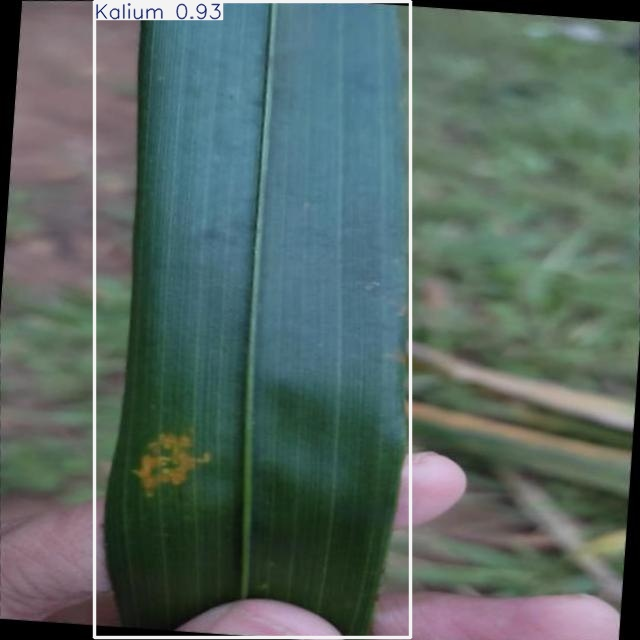Kalium: (95, 2, 410, 638)
